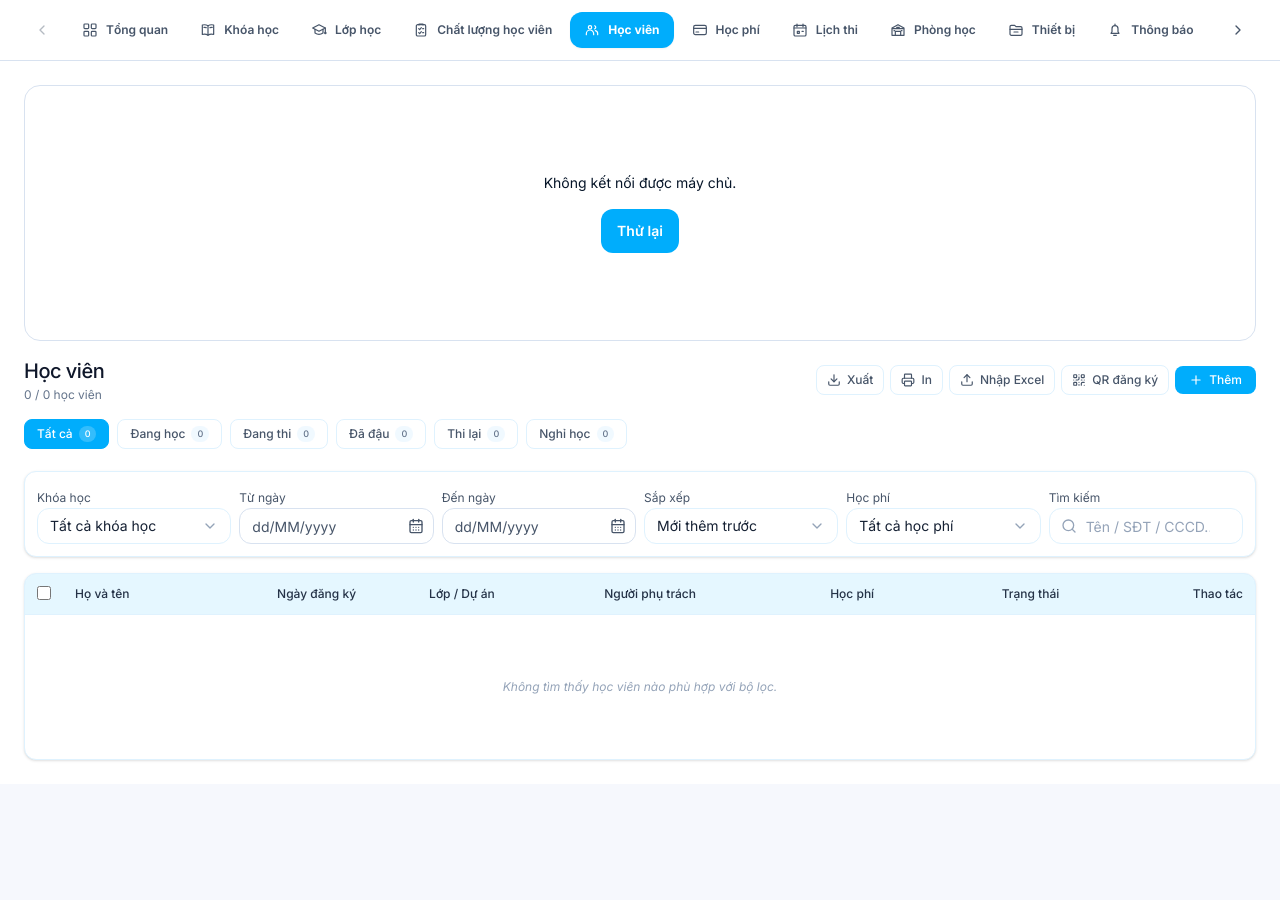
student screen loading recovery › shows list errors and retries them from the page
Expected: the message reads "Không kết nối được máy chủ.", [544,174,736,191]
Click the button "Thử lại" at (640, 231), box [601,209,679,253]
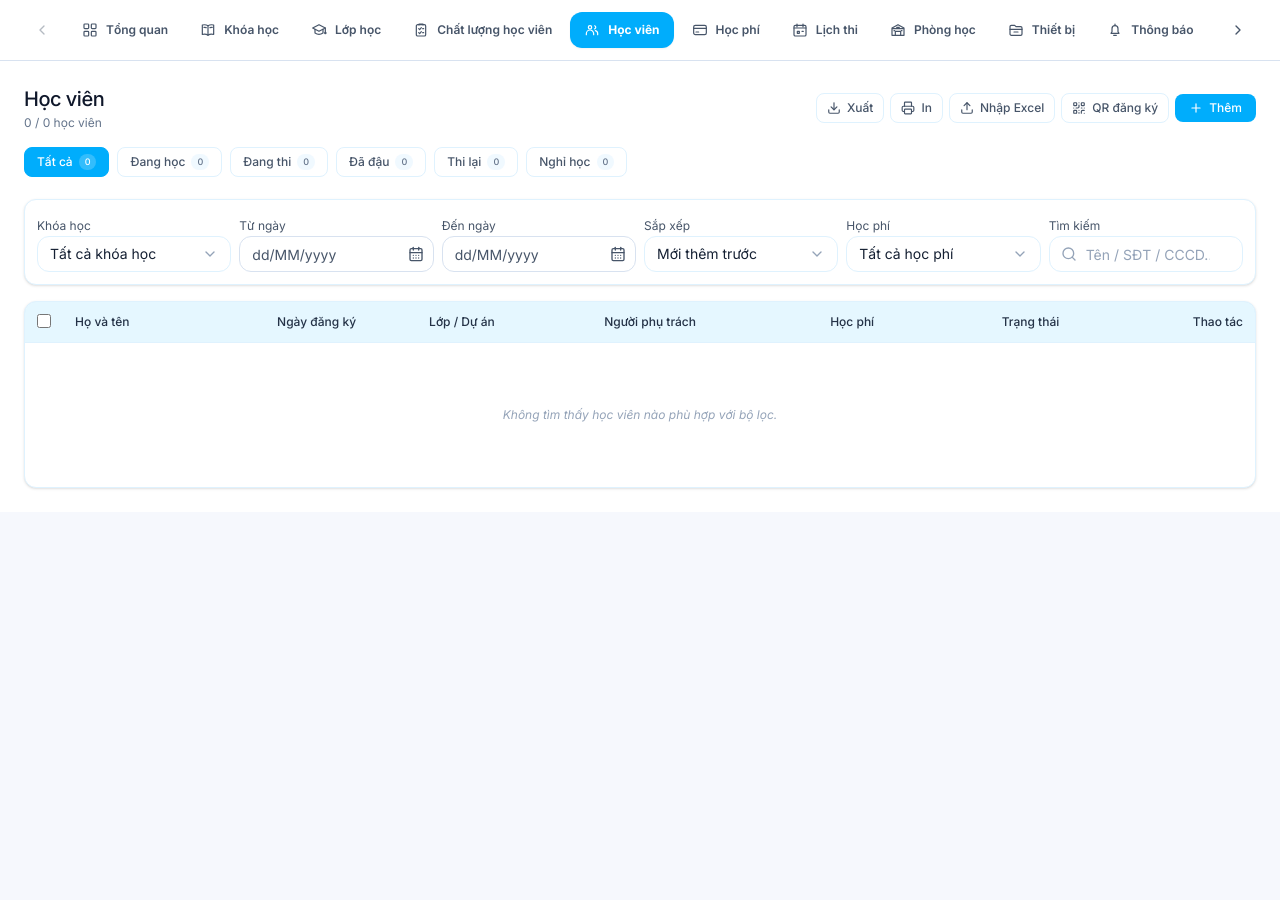
Now the message "Không kết nối được máy chủ." is gone
